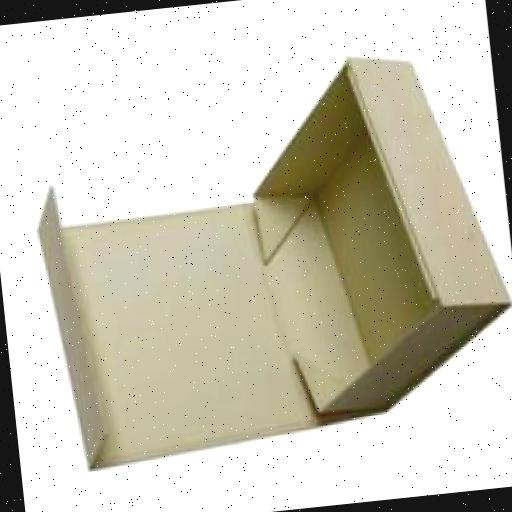cardboard: (21, 47, 512, 476)
